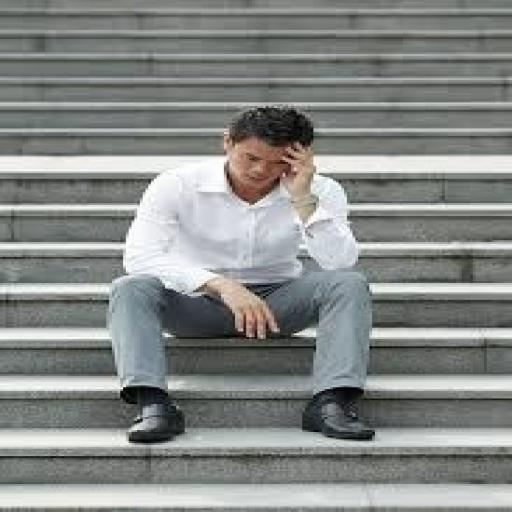sitting: (104, 103, 380, 443)
